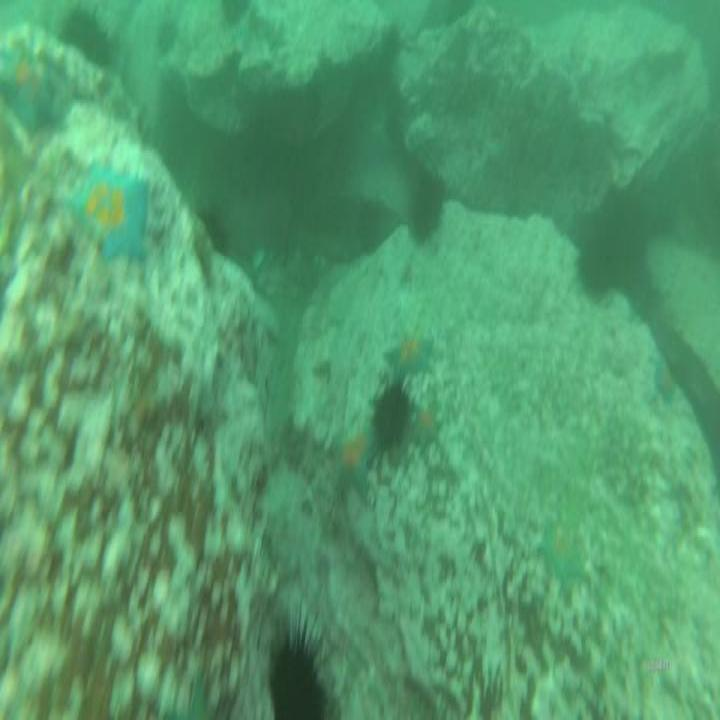echinus: (270, 645, 325, 720), (369, 391, 409, 448), (58, 11, 106, 57), (580, 244, 616, 295), (410, 178, 441, 234)
starfish: (3, 44, 55, 128), (99, 178, 150, 258), (73, 160, 126, 229), (541, 519, 585, 583), (335, 434, 373, 498), (384, 336, 433, 379), (413, 410, 441, 450), (654, 355, 678, 393)
